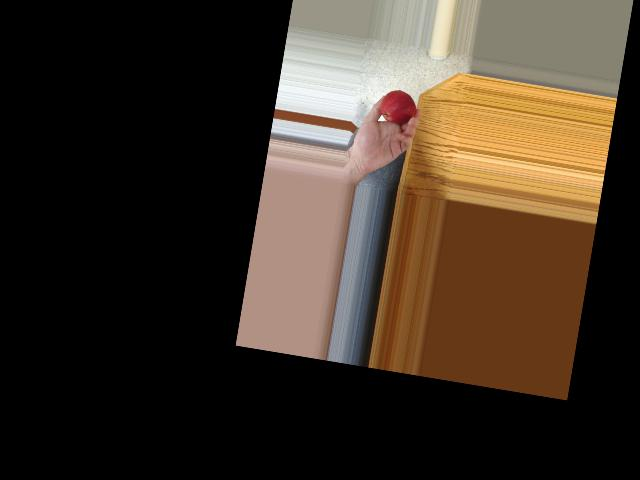apple: (378, 85, 418, 127)
